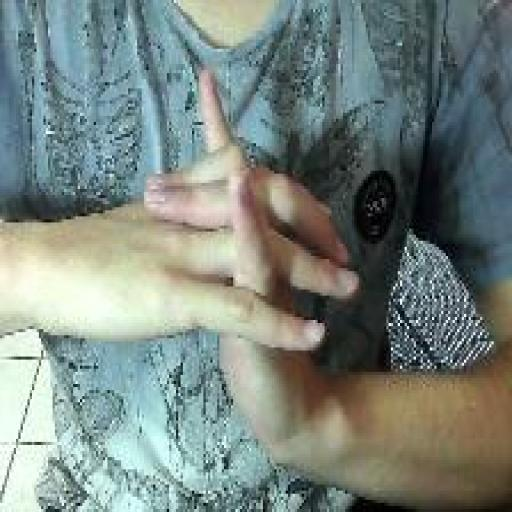Ushi -ox-: (141, 62, 362, 474)
